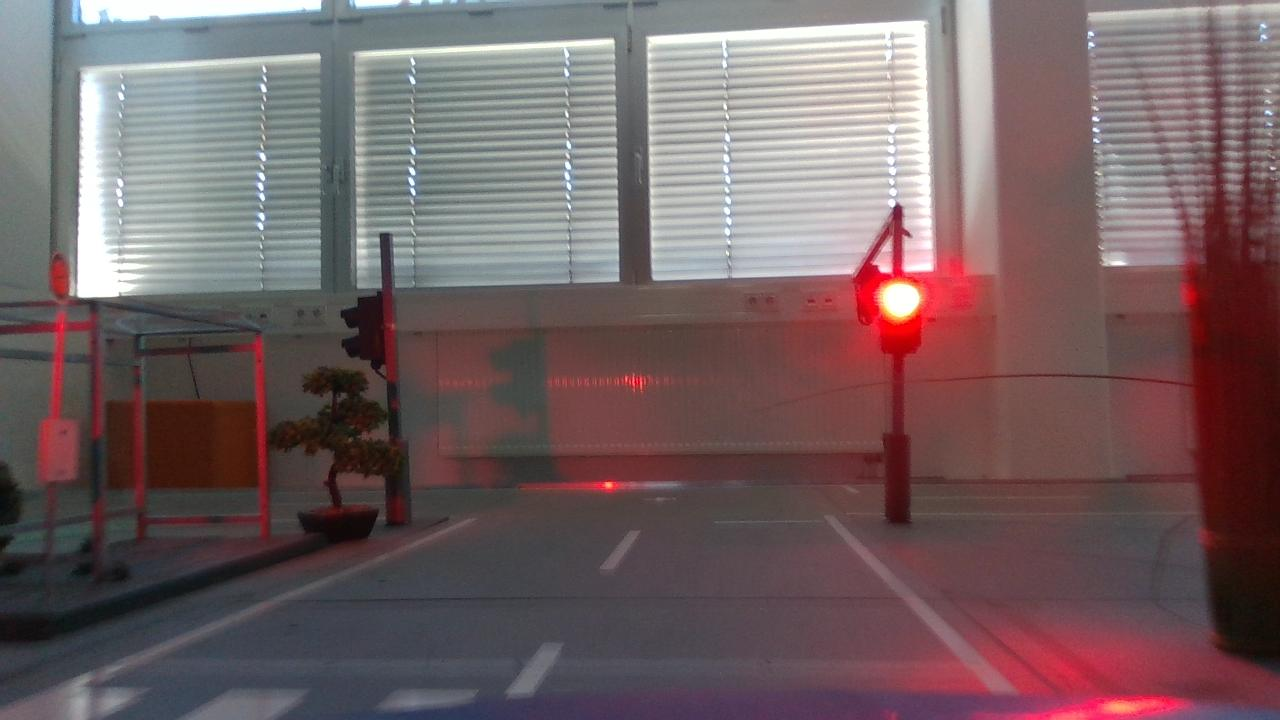traffic_light_red: (864, 271, 935, 367)
